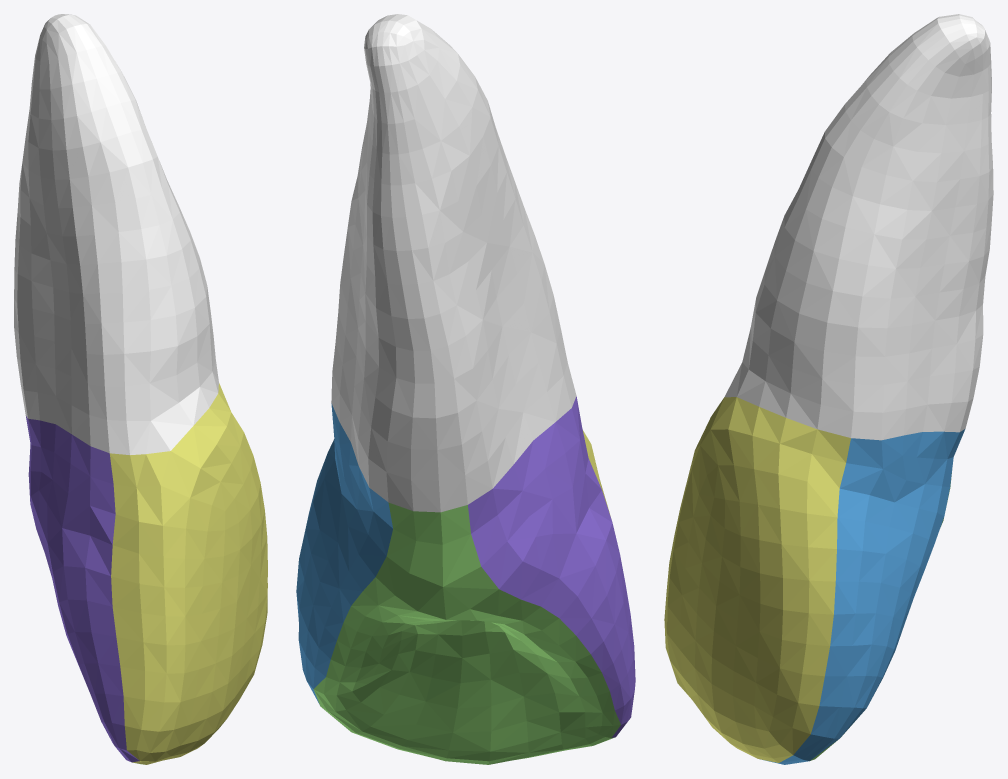
File: tooth_22_annotated.glb
3 renders of one model, left to right at view 1: azimuth 30°, elevation 25°; view 2: azimuth 150°, elevation 25°; view 3: azimuth 270°, elevation 25°, orthographic. The views are drawn at different scales.
Parts seen in each view (by area): view 1: FDI_22; view 2: FDI_22; view 3: FDI_22.
Part boxes in pixels (x1,y1,x2,y2): FDI_22: (14,14,267,764); FDI_22: (296,14,635,764); FDI_22: (664,14,993,764).
Bounding box in the file's own units: 0.00652 × 0.0193 × 0.008.
